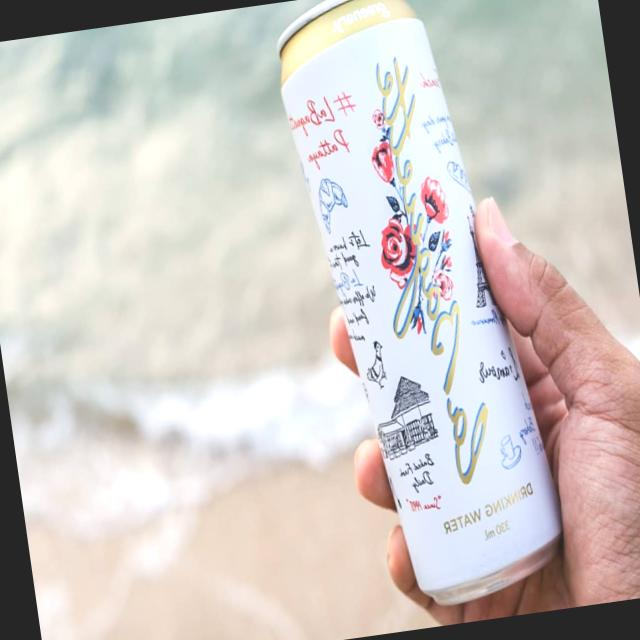can: (268, 0, 573, 619)
